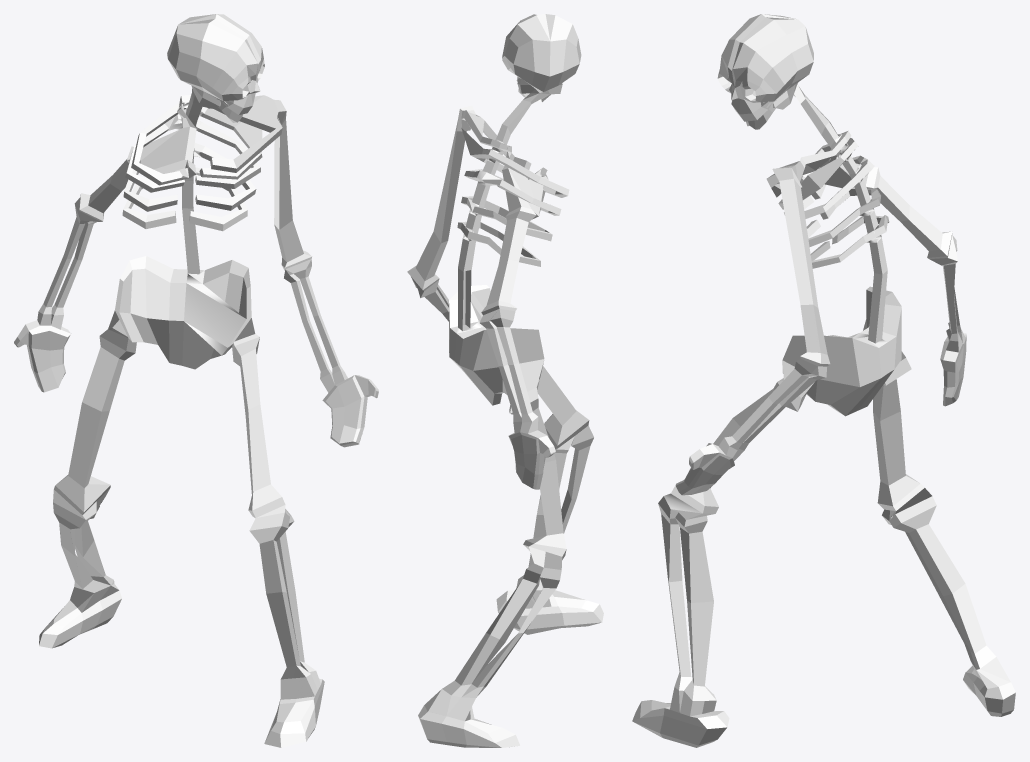
Rendered from SkeletonIdle(19).obj.
3 renders of one model, left to right at view 1: azimuth 30°, elevation 25°; view 2: azimuth 150°, elevation 25°; view 3: azimuth 270°, elevation 25°, orthographic. The views are drawn at different scales.
Visible parts, largest first — view 1: Object002; view 2: Object002; view 3: Object002.
Boxes of the visible parts, x1,y1,x2,y2 form: Object002: (14,14,378,747); Object002: (407,14,603,747); Object002: (632,14,1015,747).
Bounding box in the file's own units: 397 × 1121 × 558.
